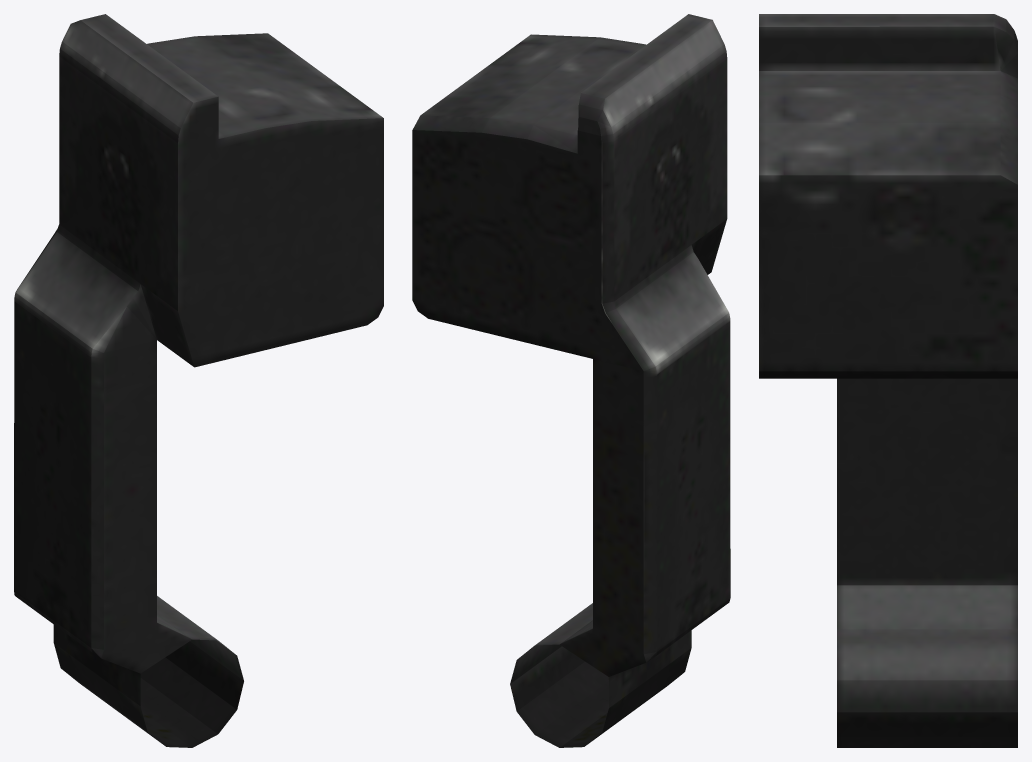
3 renders of one model, left to right at view 1: azimuth 30°, elevation 25°; view 2: azimuth 150°, elevation 25°; view 3: azimuth 270°, elevation 25°, orthographic. The views are drawn at different scales.
Visible parts, largest first — view 1: TW_61a4c8884f95bc3b2c5dc96f_PZ_Import; view 2: TW_61a4c8884f95bc3b2c5dc96f_PZ_Import; view 3: TW_61a4c8884f95bc3b2c5dc96f_PZ_Import.
Boxes of the visible parts, x1=… form: TW_61a4c8884f95bc3b2c5dc96f_PZ_Import: x1=14, y1=14, x2=383, y2=747; TW_61a4c8884f95bc3b2c5dc96f_PZ_Import: x1=412, y1=14, x2=730, y2=747; TW_61a4c8884f95bc3b2c5dc96f_PZ_Import: x1=759, y1=14, x2=1017, y2=747.
Bounding box in the file's own units: 0.0101 × 0.00863 × 0.0261.
Materials: 1 (1 with a texture image).
